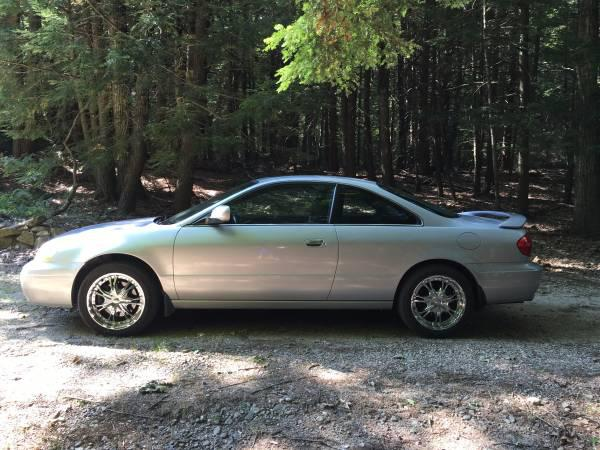acura: (18, 173, 538, 339)
